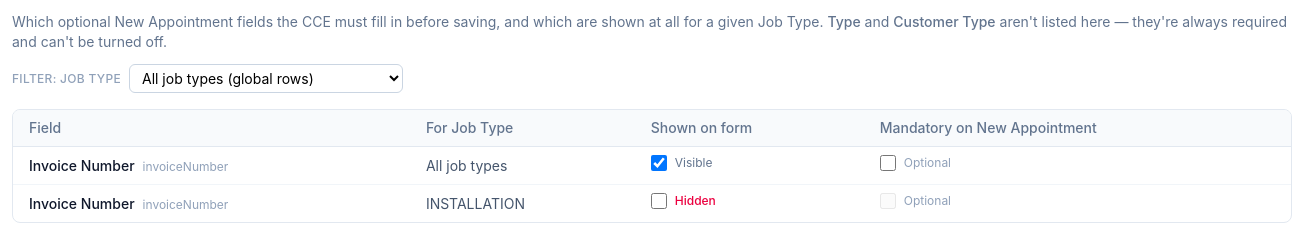
Test: AppointmentFieldConfigPage - Job Type matrix › filters to only the selected Job Type's override rows
Select "INSTALLATION overrides" in the dropdown labelled "Filter: Job Type" at (266, 78), box [129,64,403,93]
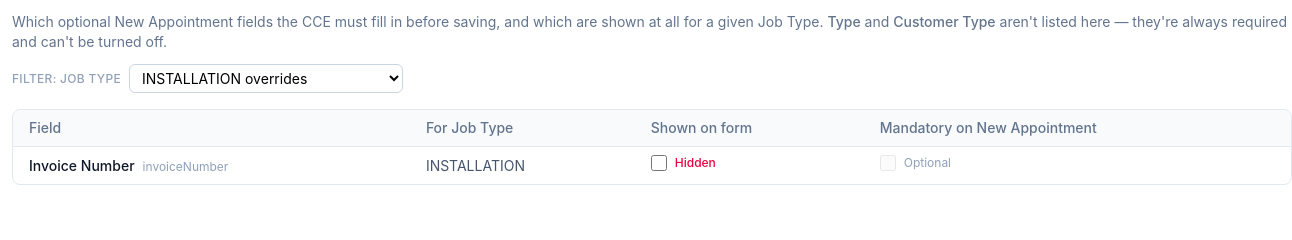
Expected: the text "Hidden" is shown, [675,155,716,171]
Expected: the text "Invoice Number" is shown once, [29,156,135,174]
